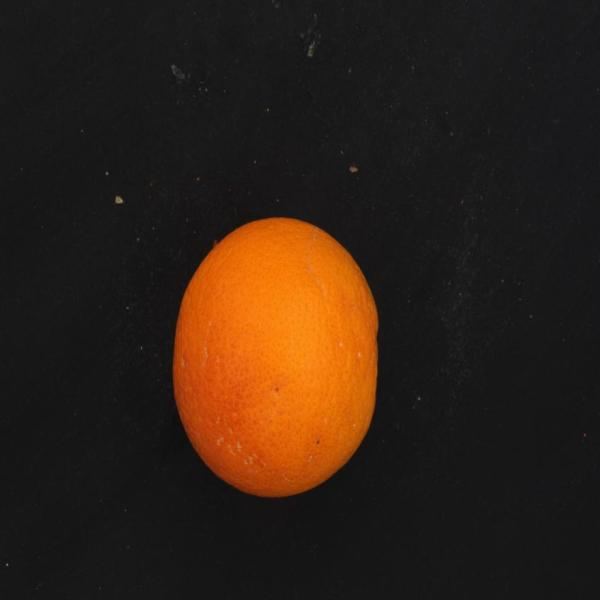Sana: (168, 209, 391, 504)
